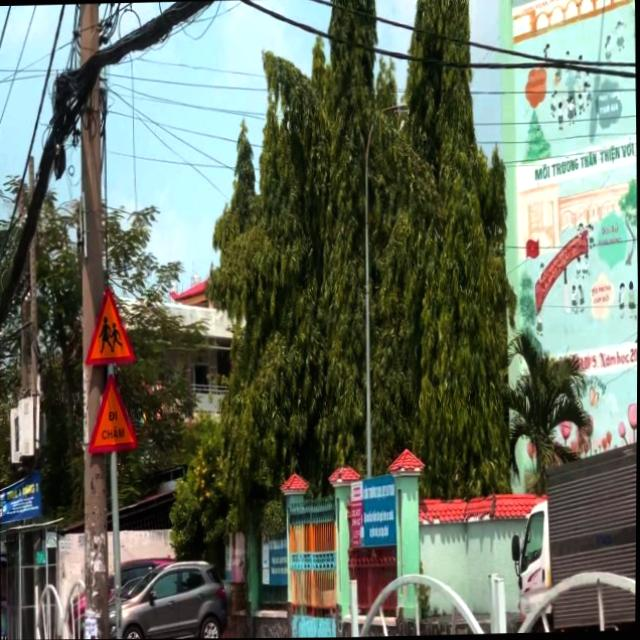Di cham: (86, 371, 139, 453)
Tre em: (84, 285, 136, 366)
